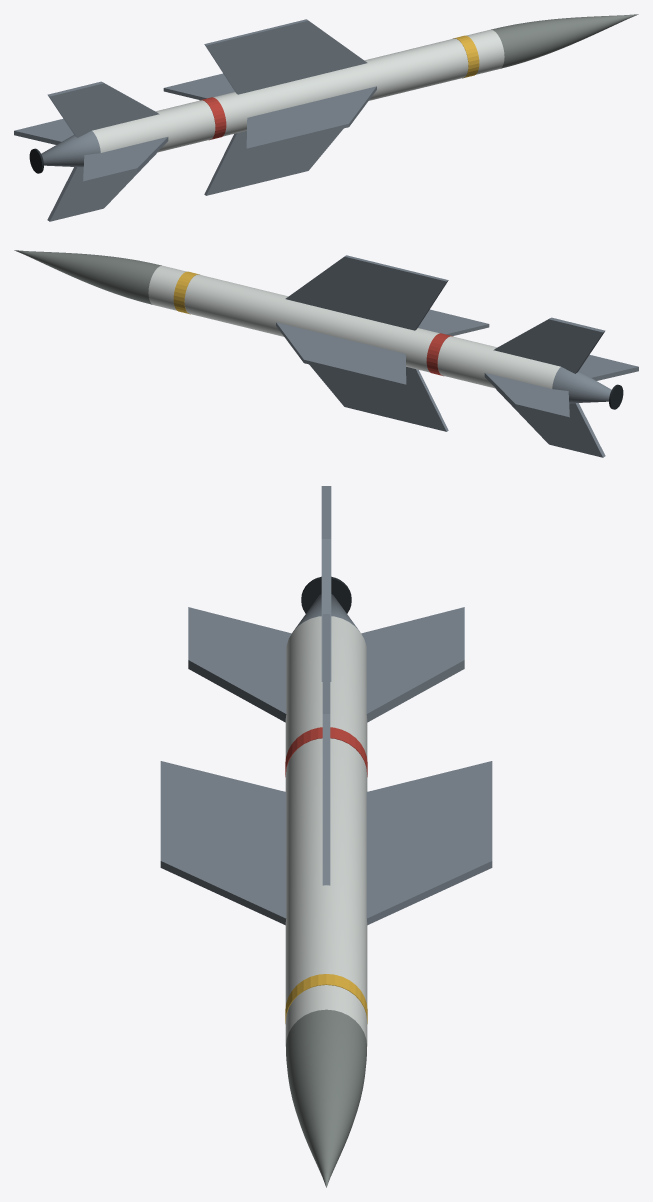
Rendered from kinzhal_naval_sam.glb.
3 renders of one model, top to bottom at view 1: azimuth 30°, elevation 25°; view 2: azimuth 150°, elevation 25°; view 3: azimuth 270°, elevation 25°, orthographic. The views are drawn at different scales.
Parts seen in each view (by area): view 1: kinzhal_naval_sam; view 2: kinzhal_naval_sam; view 3: kinzhal_naval_sam.
Part boxes in pixels (left/top/right/bottom): kinzhal_naval_sam: left=14, top=14, right=638, bottom=221; kinzhal_naval_sam: left=14, top=250, right=638, bottom=457; kinzhal_naval_sam: left=160, top=486, right=492, bottom=1187.
Size of the model in its own units: 10 by 2.38 by 2.38.
